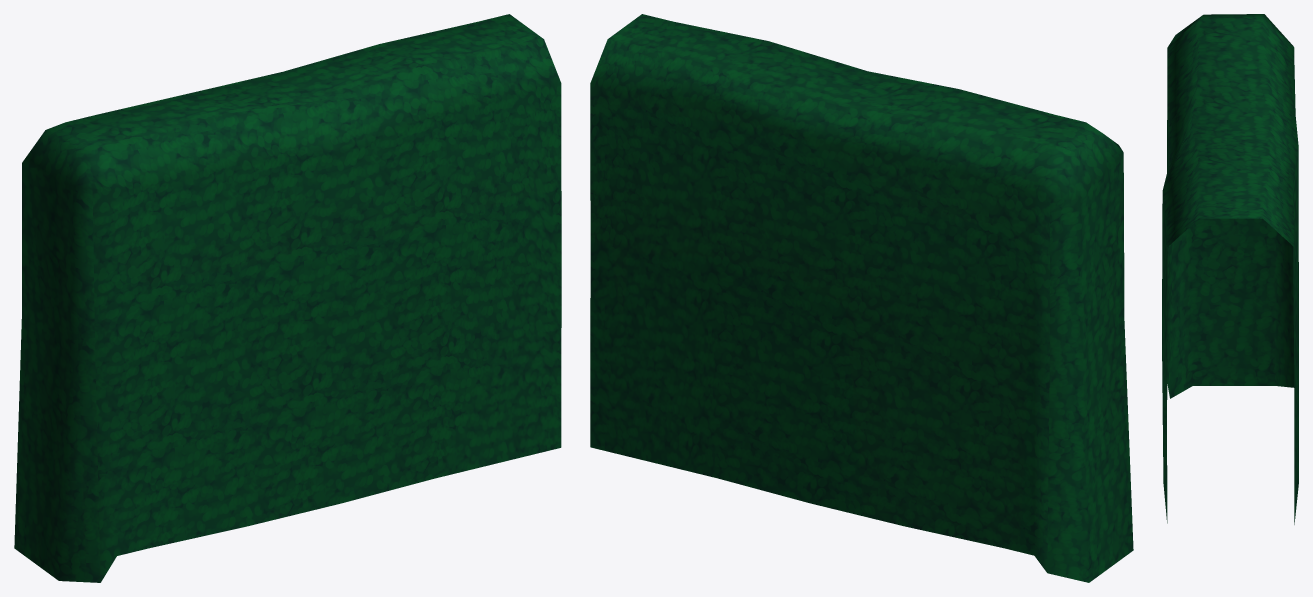
The model's file is SM_Haie_End.fbx.
The picture shows the model from 3 angles, left to right: view 1: azimuth 30°, elevation 25°; view 2: azimuth 150°, elevation 25°; view 3: azimuth 270°, elevation 25°; orthographic projection. The views are drawn at different scales.
Parts seen in each view (by area): view 1: pCube8; view 2: pCube8; view 3: pCube8.
Part boxes in pixels (left/top/right/bottom): pCube8: left=14, top=14, right=561, bottom=582; pCube8: left=590, top=14, right=1133, bottom=582; pCube8: left=1162, top=14, right=1298, bottom=524.
Size of the model in its own units: 338 by 280 by 89.15.
